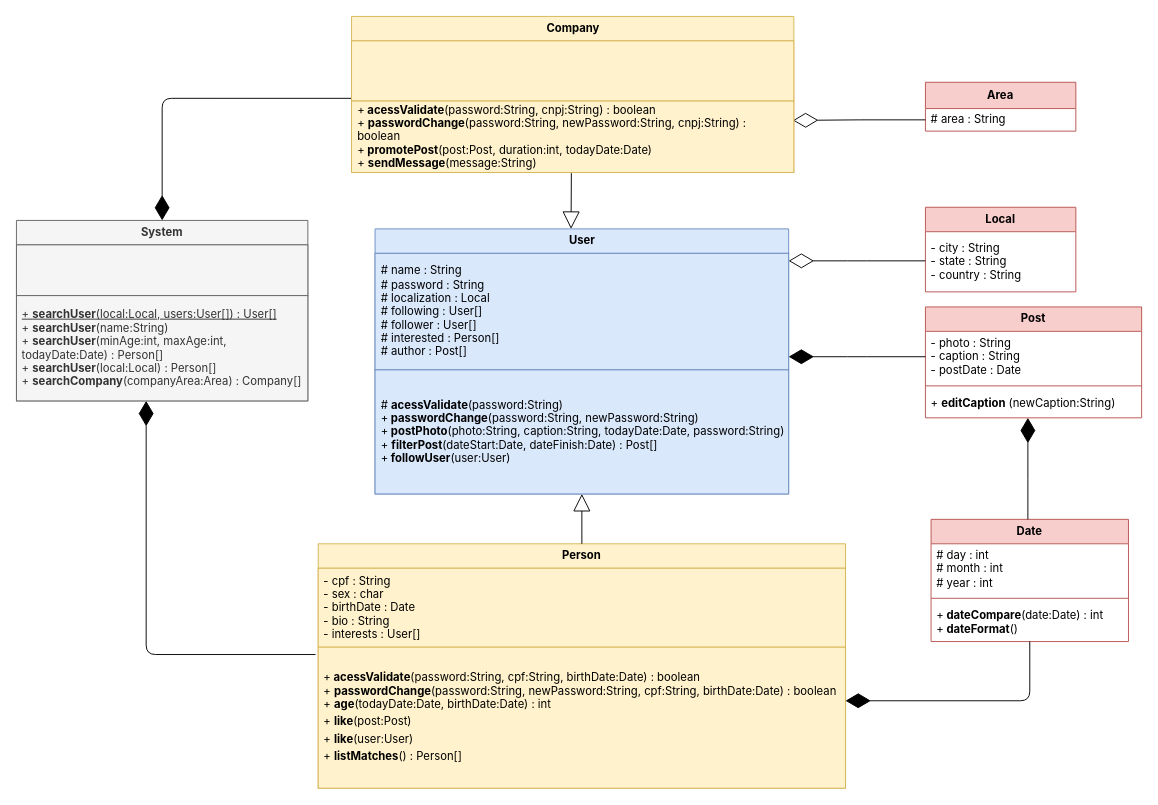
Some shapes in this 1158 by 805 pixel diagram are drawn without their labels. The centre of each missing label's shape, as x and y in pixels:
- cnpj : String - adress : Local - description : String - area : Area: the point at 572,70
- person : Person[] - company : Company[]: the point at 162,270
